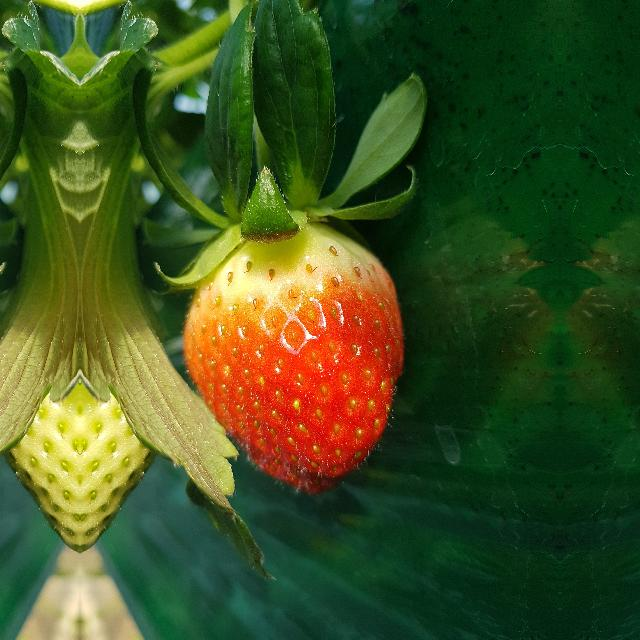Health_75: (182, 221, 404, 495)
